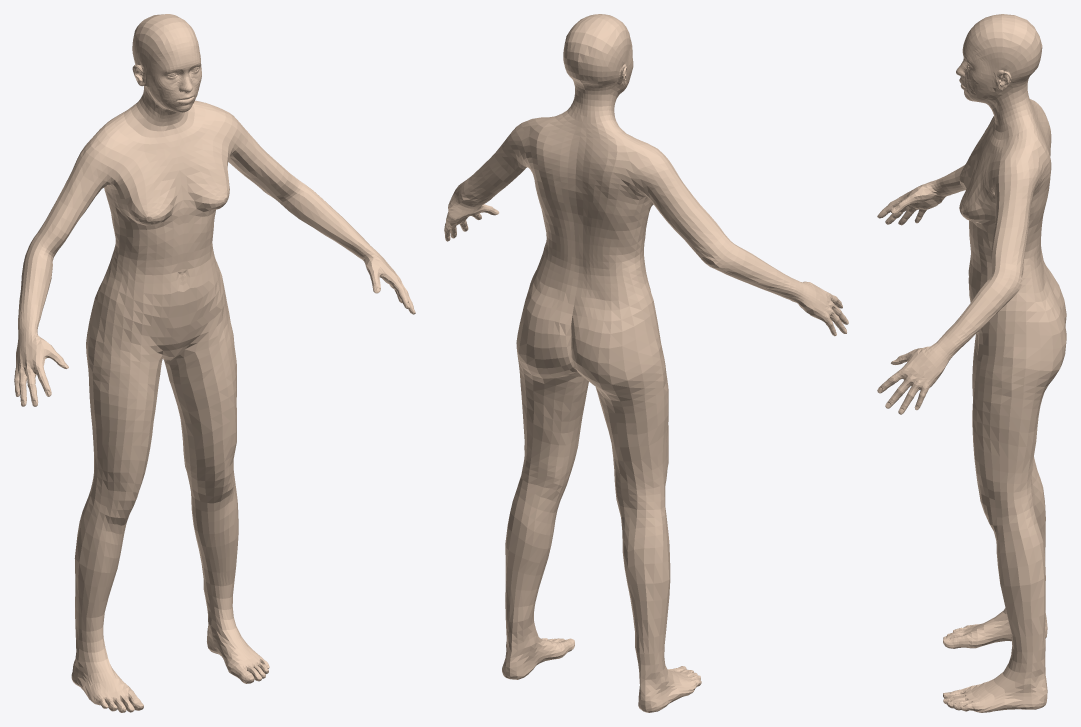
Rendered from female-mature-average-medium.glb.
3 renders of one model, left to right at view 1: azimuth 30°, elevation 25°; view 2: azimuth 150°, elevation 25°; view 3: azimuth 270°, elevation 25°, orthographic.
Parts seen in each view (by area): view 1: world; view 2: world; view 3: world.
Boxes of the visible parts, x1,y1,x2,y2 form: world: (14, 14, 415, 712); world: (444, 14, 848, 712); world: (877, 14, 1066, 712).
Size of the model in its own units: 1.12 by 1.81 by 0.4719.
